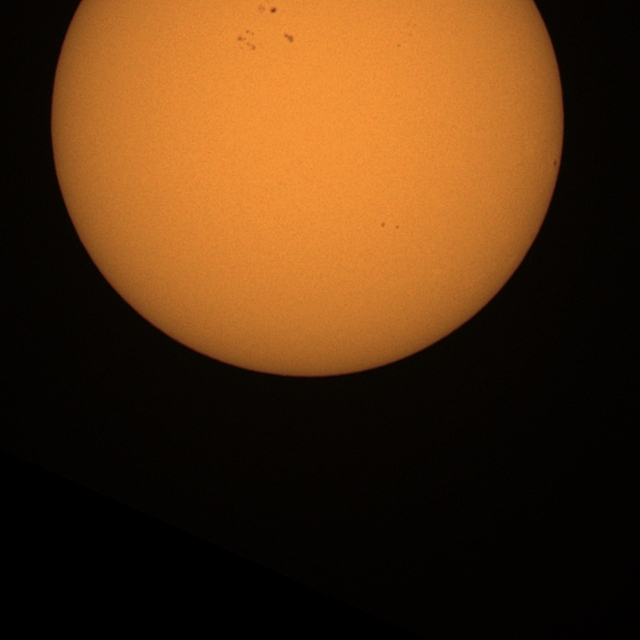sunspot: (236, 29, 257, 52), (257, 3, 278, 15), (284, 32, 294, 43), (380, 221, 386, 228), (552, 160, 558, 167), (395, 224, 400, 230)
